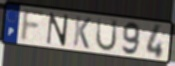4: (145, 22, 165, 60)
9: (122, 21, 142, 56)
F: (19, 8, 47, 44)
K: (72, 14, 93, 50)
N: (45, 12, 70, 48)
U: (95, 17, 119, 53)
